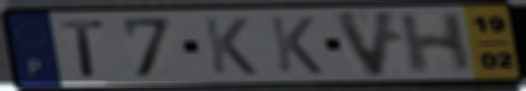7: (120, 15, 177, 80)
H: (396, 10, 475, 76)
K: (200, 16, 260, 78), (266, 15, 326, 76)
T: (58, 18, 108, 79)
V: (330, 9, 402, 80)
